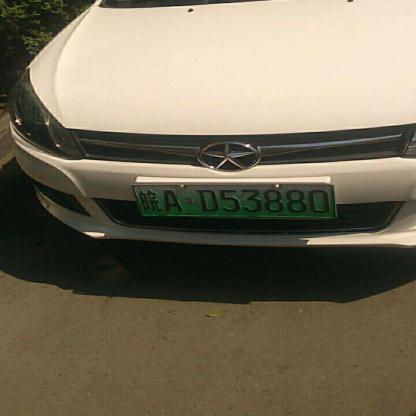lp: (131, 185, 336, 217)
